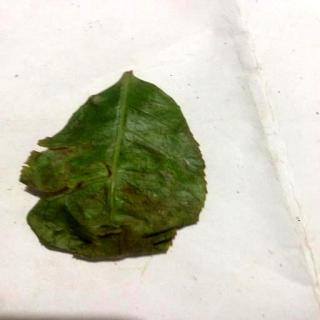Red Leaf Spot: (20, 71, 208, 264)
